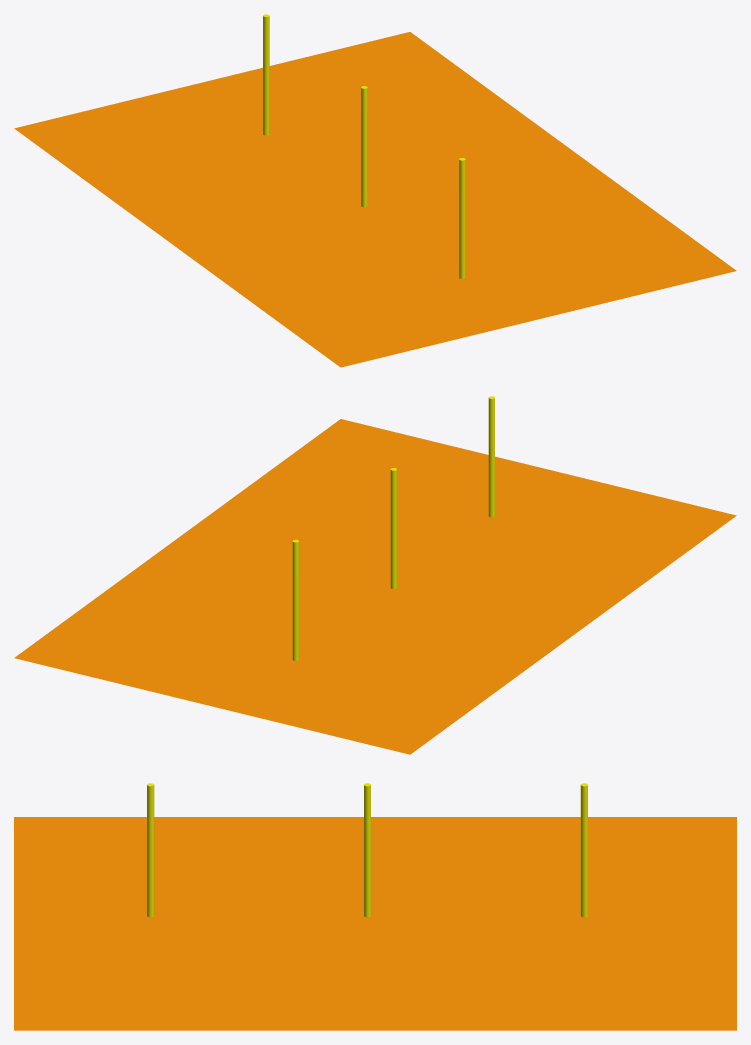
3 renders of one model, top to bottom at view 1: azimuth 30°, elevation 25°; view 2: azimuth 150°, elevation 25°; view 3: azimuth 270°, elevation 25°, orthographic. The views are drawn at different scales.
Parts seen in each view (by area): view 1: Plane; view 2: Plane; view 3: Plane.
Part boxes in pixels (bbox=[...]): Plane: bbox=[14, 14, 736, 367]; Plane: bbox=[14, 396, 736, 754]; Plane: bbox=[14, 783, 736, 1030].
Size of the model in its own units: 7 by 2 by 10.
